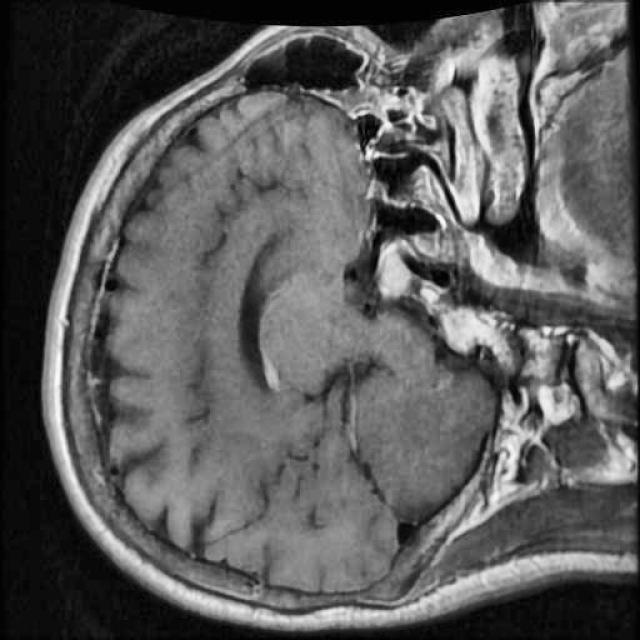Tumor: (359, 231, 424, 310)
